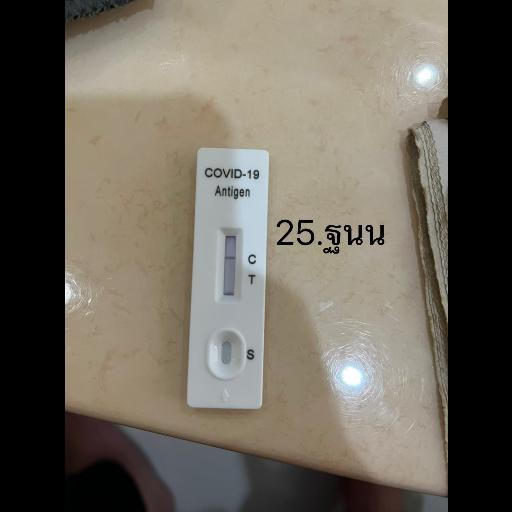Neg: (185, 146, 269, 407)
